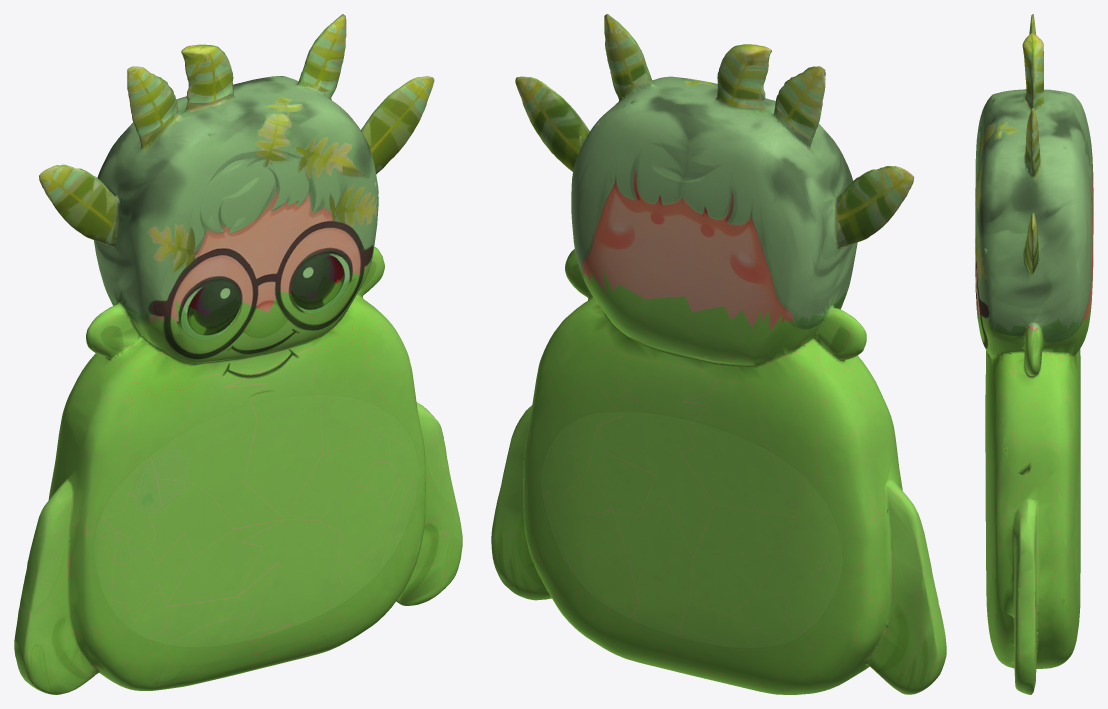
The model's file is vovo-samambaia.glb.
3 renders of one model, left to right at view 1: azimuth 30°, elevation 25°; view 2: azimuth 150°, elevation 25°; view 3: azimuth 270°, elevation 25°, orthographic. The views are drawn at different scales.
Size of the model in its own units: 1.48 by 2 by 0.3737.
Materials: 1 (1 with a texture image).
